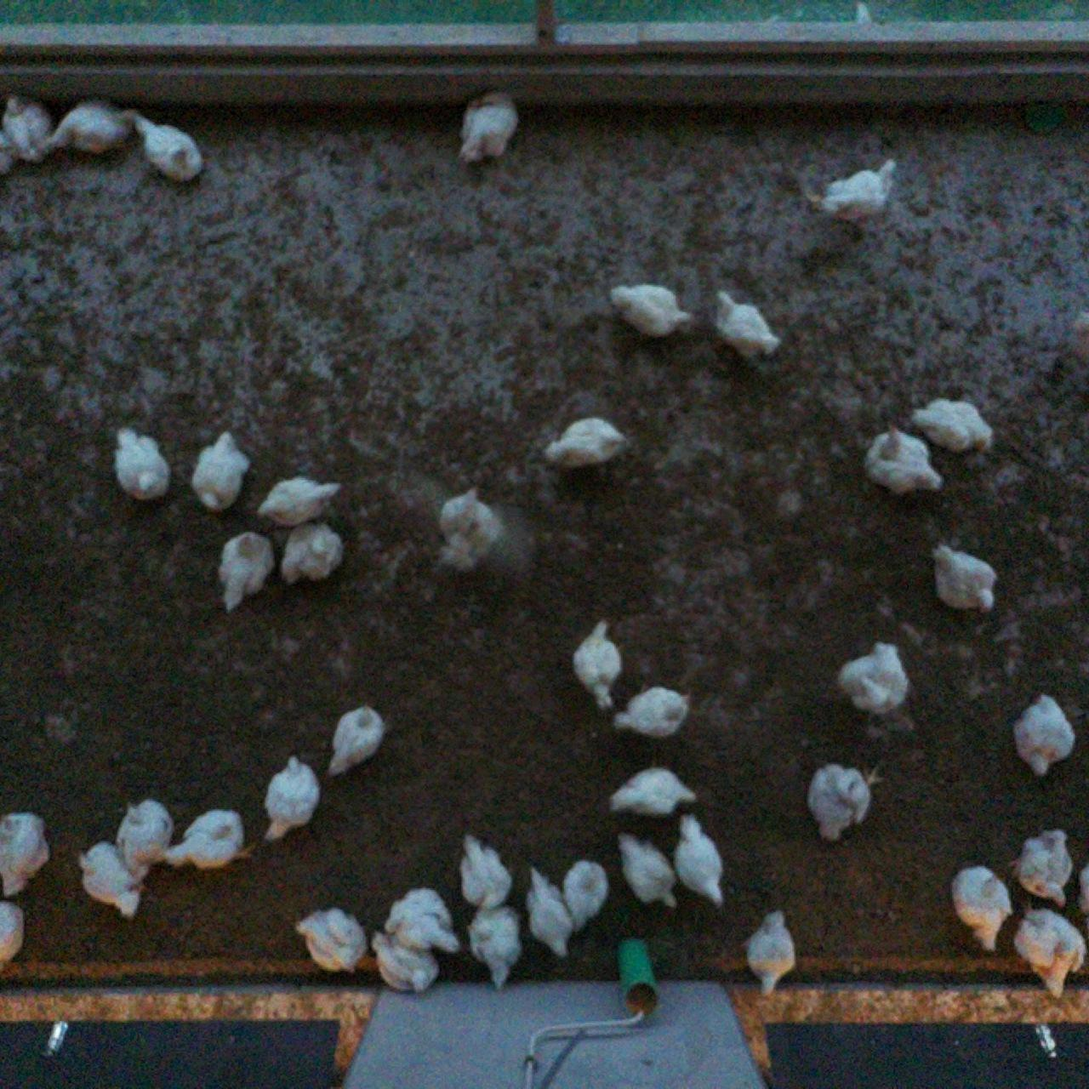chicken: (1016, 900, 1088, 996), (815, 157, 899, 234), (430, 484, 501, 574), (808, 760, 882, 843), (857, 426, 946, 495), (166, 806, 257, 868), (262, 754, 325, 843), (837, 644, 910, 720), (910, 395, 1000, 456), (952, 862, 1012, 953), (1011, 822, 1074, 908), (1014, 693, 1077, 778), (385, 888, 462, 956), (78, 841, 145, 919), (569, 617, 625, 709), (674, 814, 728, 909), (50, 99, 136, 157), (744, 904, 797, 998), (709, 287, 781, 356), (294, 906, 367, 974), (610, 282, 694, 341), (930, 541, 999, 611), (373, 930, 447, 995), (457, 90, 522, 164), (133, 113, 204, 180), (0, 808, 54, 896), (218, 530, 277, 610), (190, 431, 250, 509), (608, 767, 698, 818), (618, 833, 678, 908), (526, 867, 574, 959), (473, 908, 526, 991), (610, 686, 691, 740), (281, 519, 347, 585), (548, 416, 630, 469), (117, 798, 171, 878), (114, 425, 171, 500), (327, 705, 385, 777), (455, 833, 511, 906), (256, 476, 339, 525), (2, 94, 56, 164), (566, 859, 609, 936), (0, 900, 26, 967), (0, 124, 17, 176), (1074, 310, 1089, 363), (1079, 864, 1089, 916)
